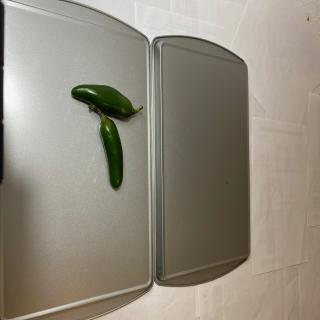Chilli: (71, 83, 143, 190), (88, 103, 124, 189), (71, 83, 143, 119)
